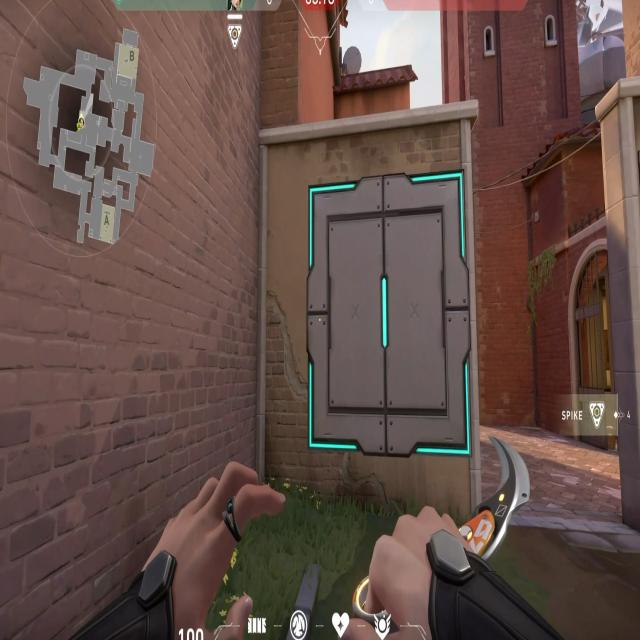Mid_Wall: (273, 101, 496, 532)
